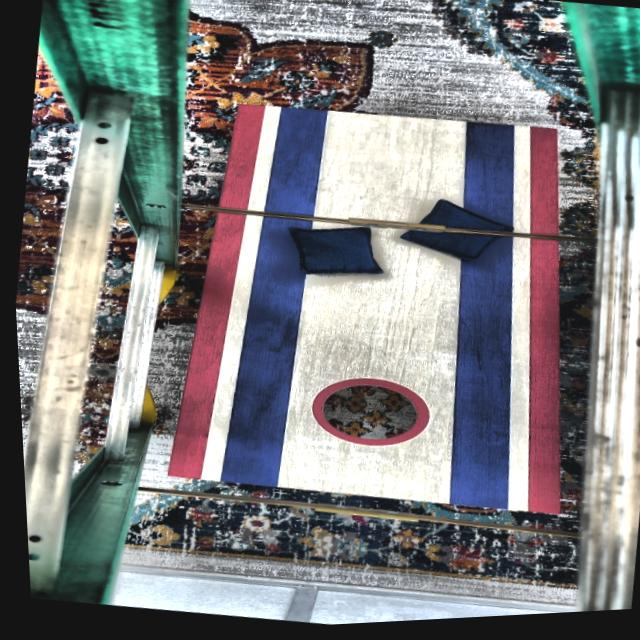blue-bean-bag: (391, 195, 515, 275), (282, 221, 384, 288)
board: (185, 95, 566, 526)
hole: (301, 371, 430, 460)
